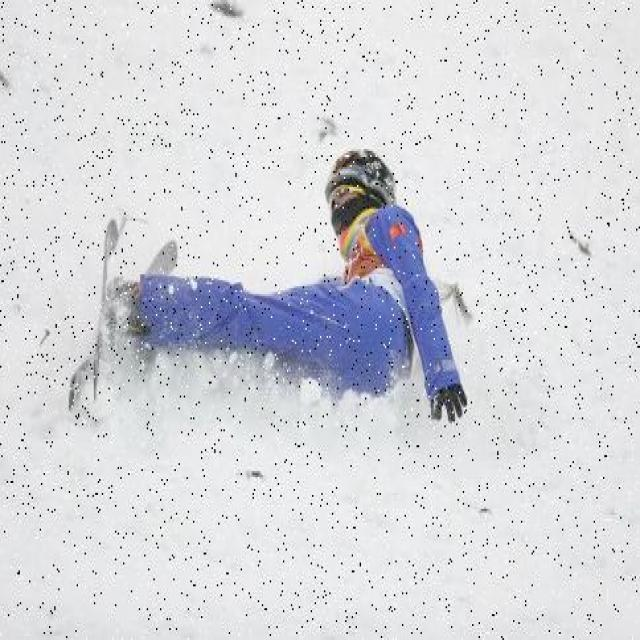fall: (110, 160, 473, 396)
